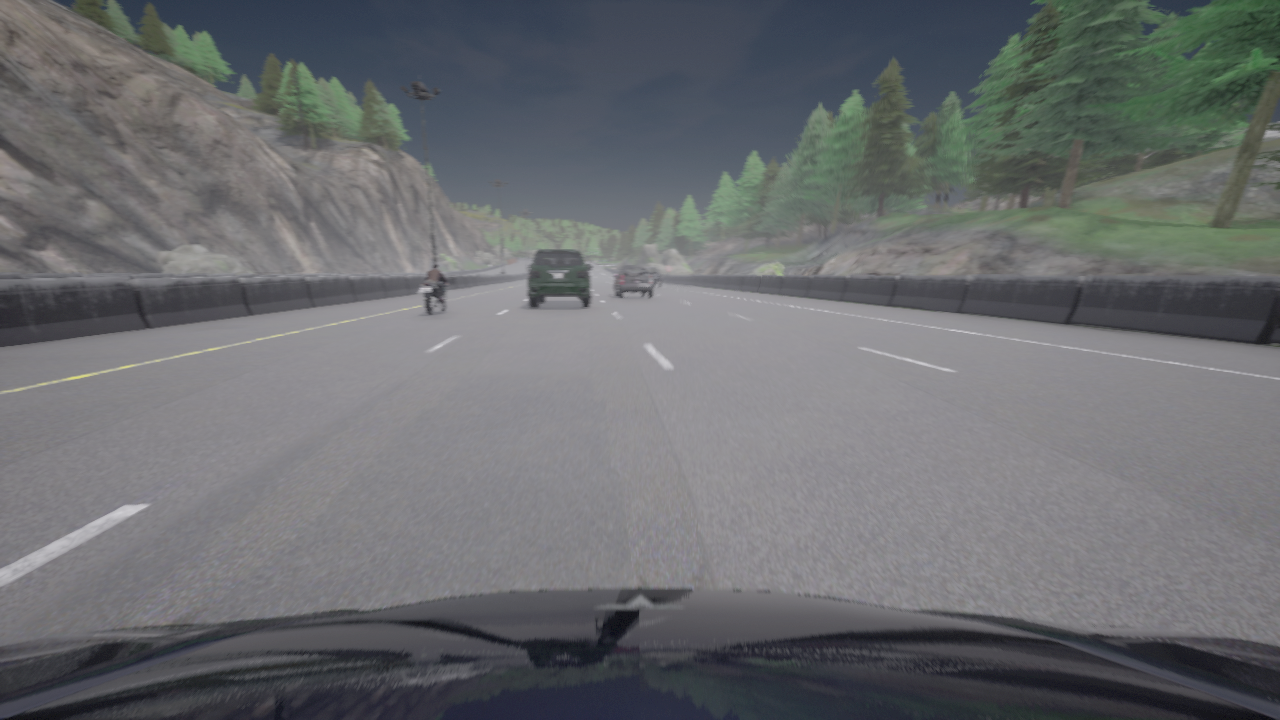cyclist: (0, 588, 1279, 719), (528, 249, 591, 307), (418, 276, 454, 315), (614, 266, 653, 298), (643, 266, 662, 287), (615, 277, 616, 278)
